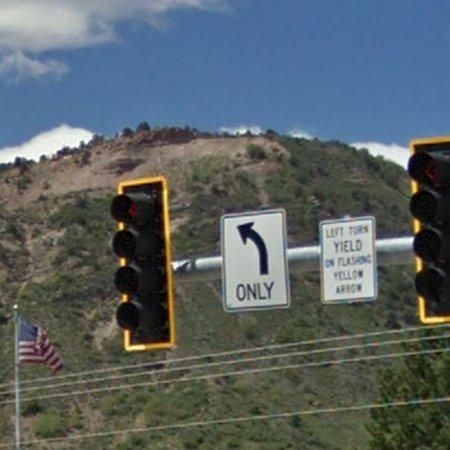traffic lights: (111, 176, 175, 351)
